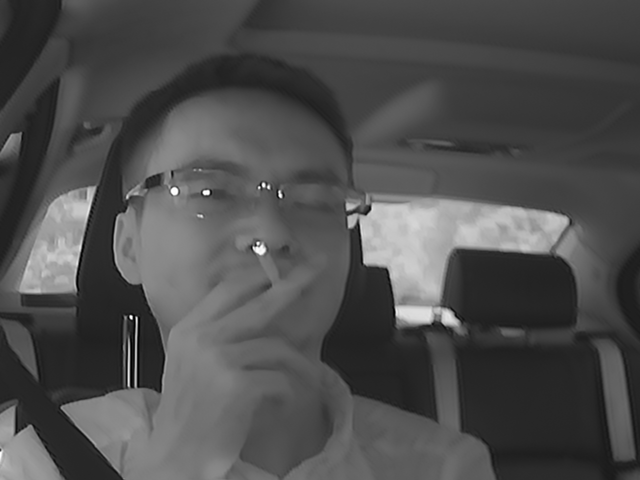hand: (169, 256, 314, 414)
